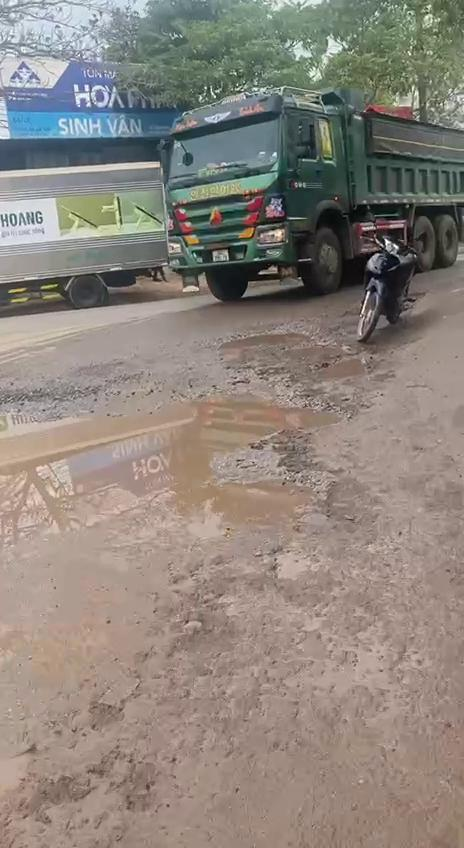pothole: (0, 379, 359, 581), (220, 321, 381, 389)
